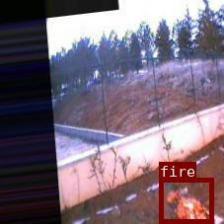fire: (159, 177, 212, 222)
